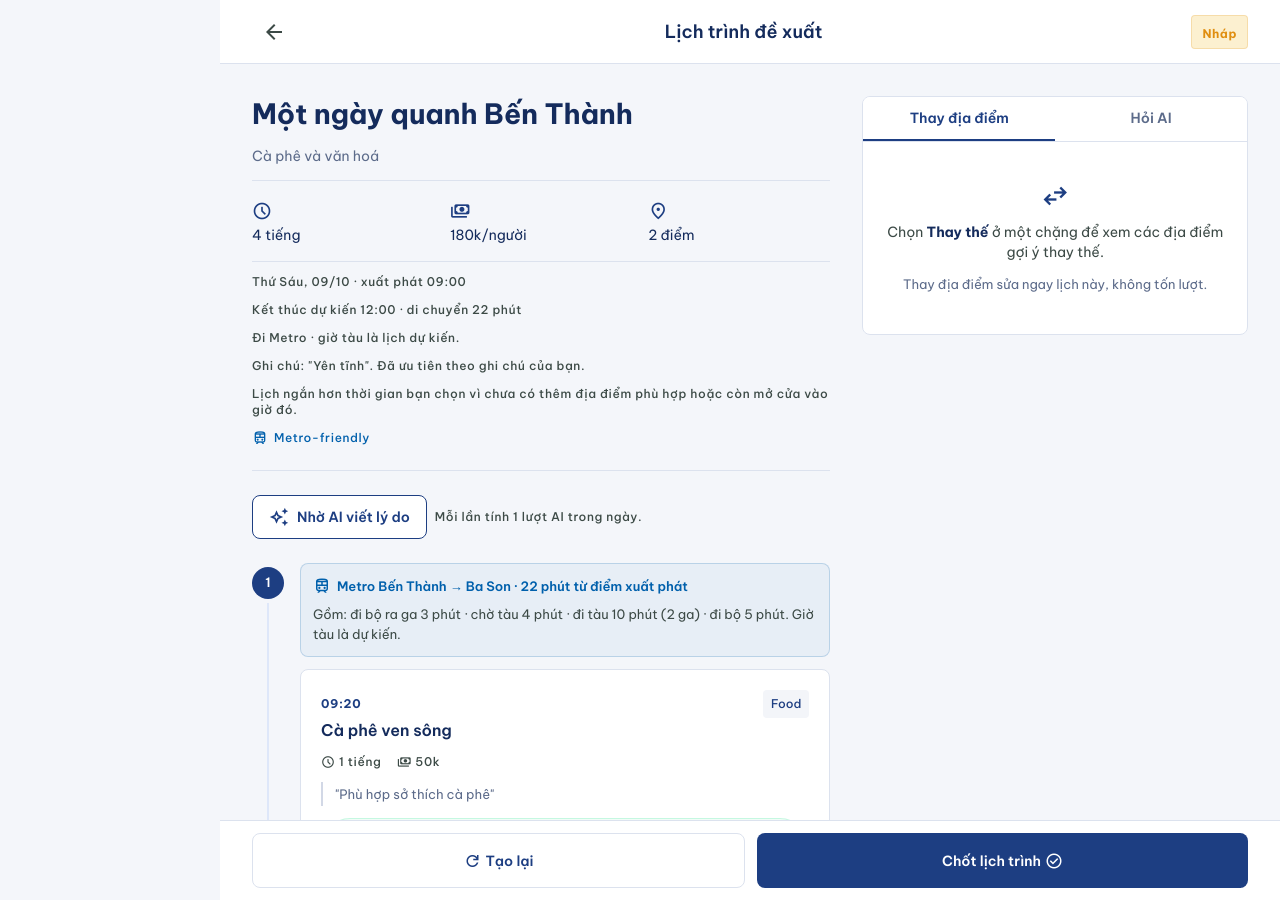
Test: USER-A5.2 finalize by plan saved-trip quota › BE quota refusal switches to the upgrade card, reloads the plan, never offers a single purchase
The width and height of the screenshot is (1280, 900).
Click the button "Chốt lịch trình" at point(1002, 860), box [757,833,1248,888]
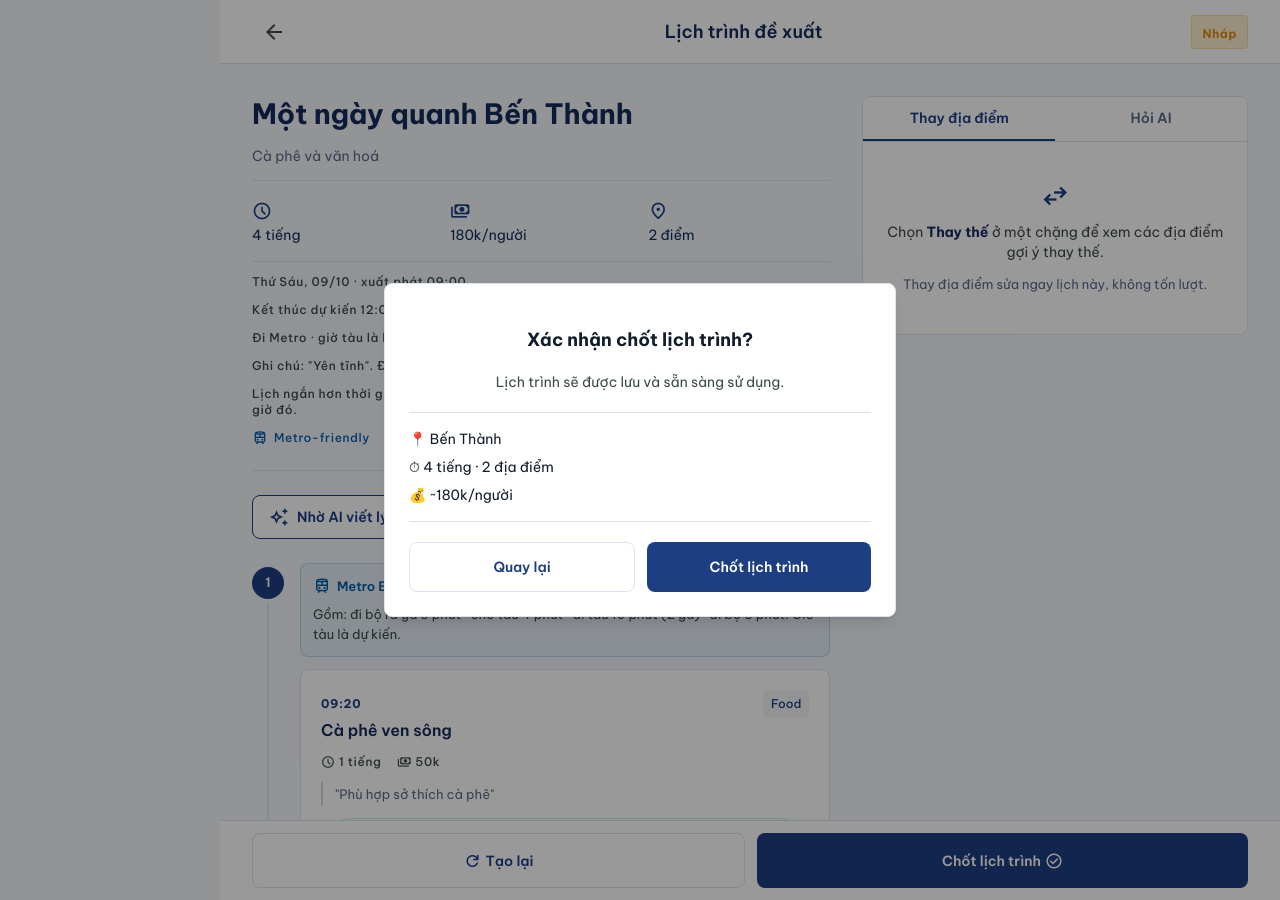
Click the button "Chốt lịch trình" at point(759, 567), box [647,542,871,592]
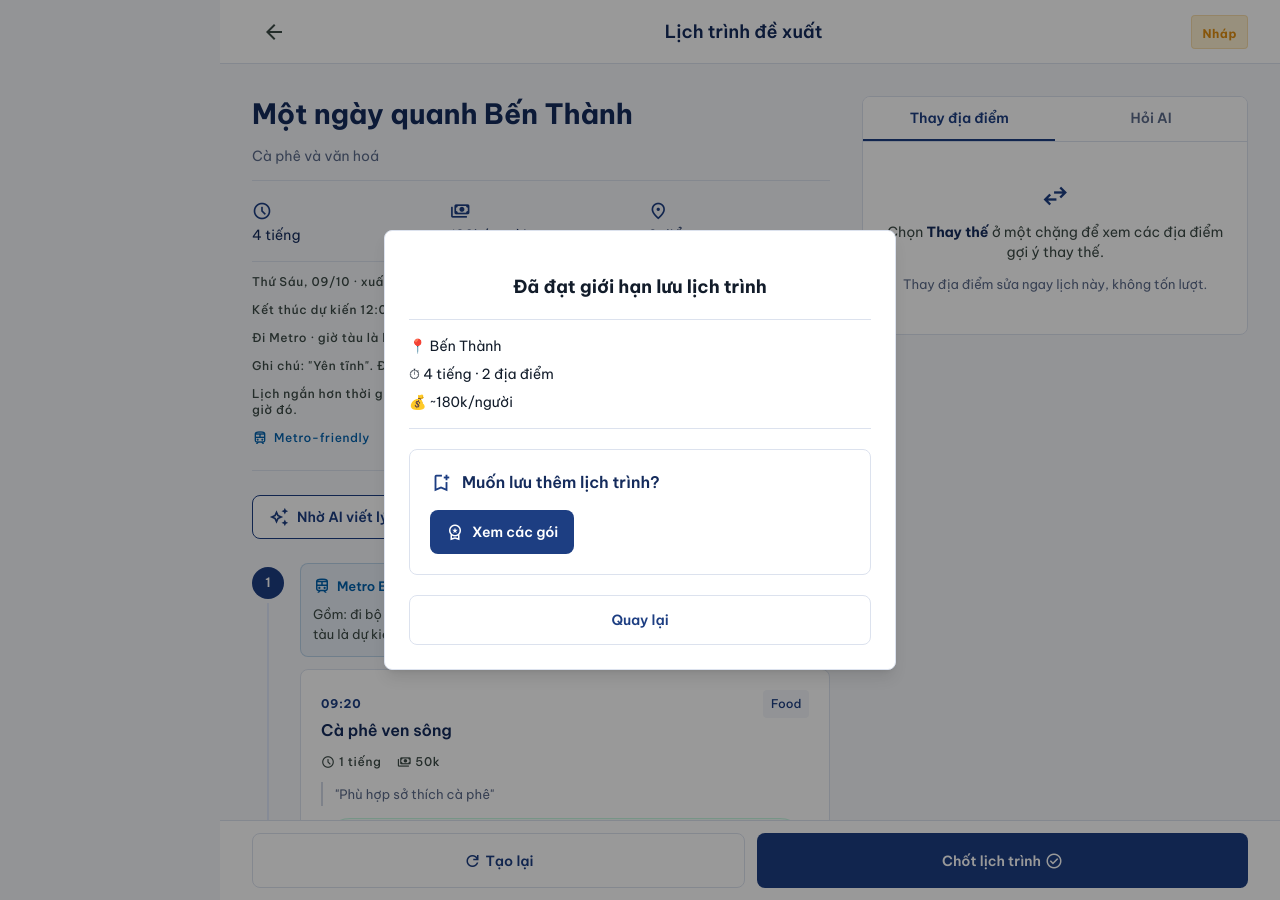
Result: the heading "Đã đạt giới hạn lưu lịch trình" is shown at [513,275,767,298]
Result: the element "Muốn lưu thêm lịch trình?" is shown at [409,449,871,575]
